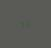nine: (19, 20, 24, 28)
six: (25, 20, 30, 27)
